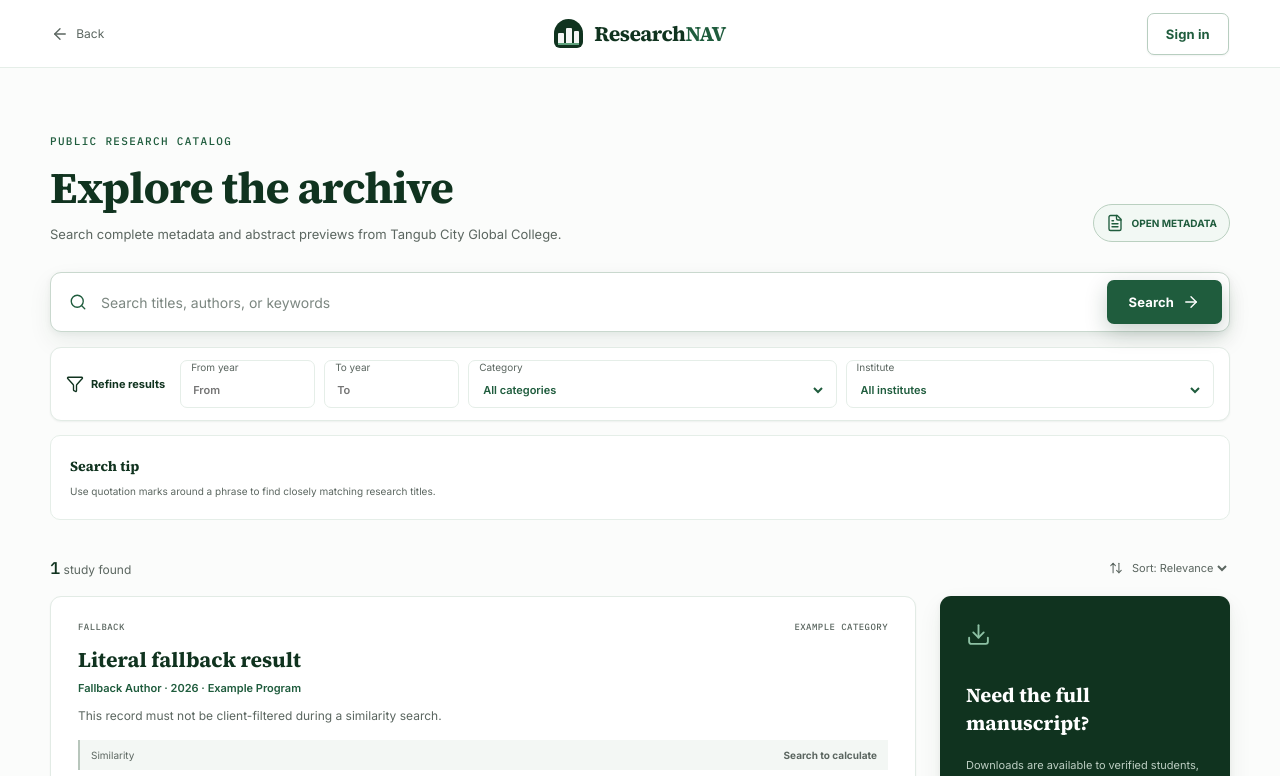
Scenario: CatalogPage public similarity search › ignores an older request when a newer submitted query wins the race
The image size is (1280, 776).
Type "older" into the field named "Search the repository".
click(597, 302); type("older")  # box x1=99 y1=281 x2=1095 y2=323
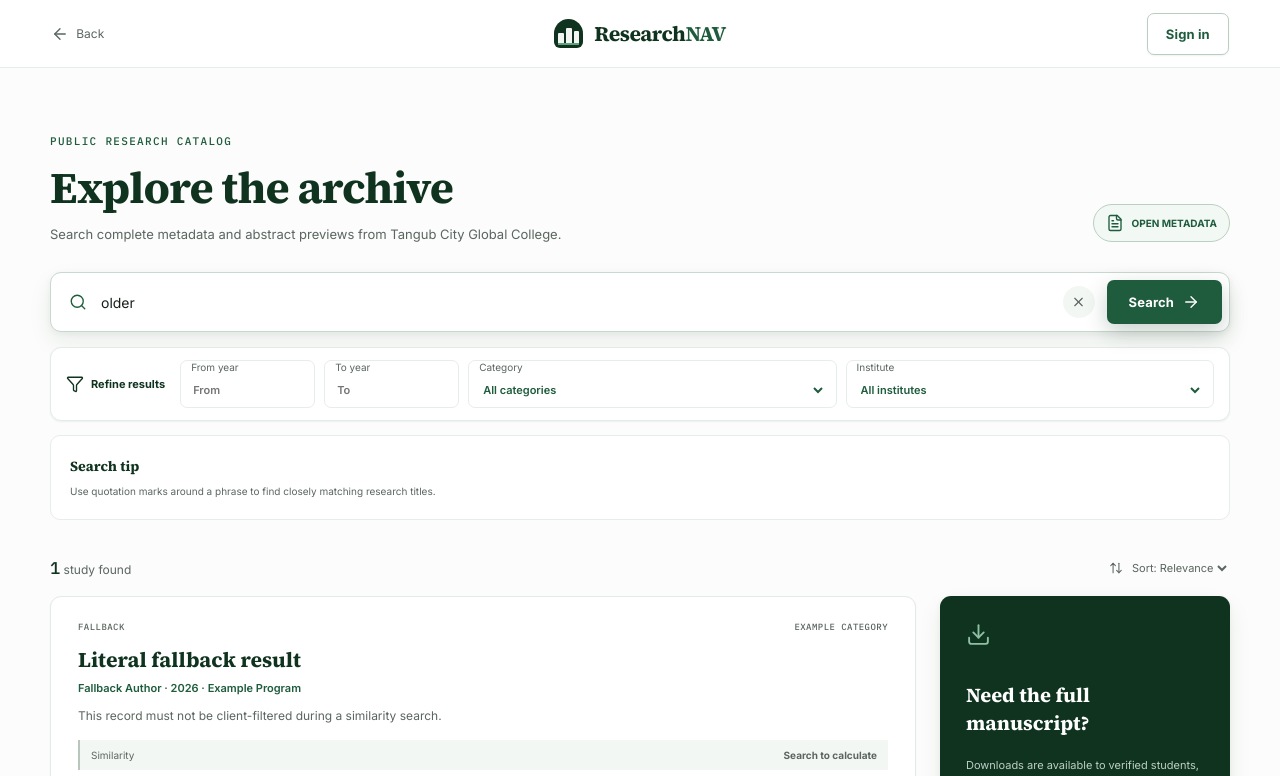
Submit the form, box x1=50 y1=272 x2=1230 y2=332
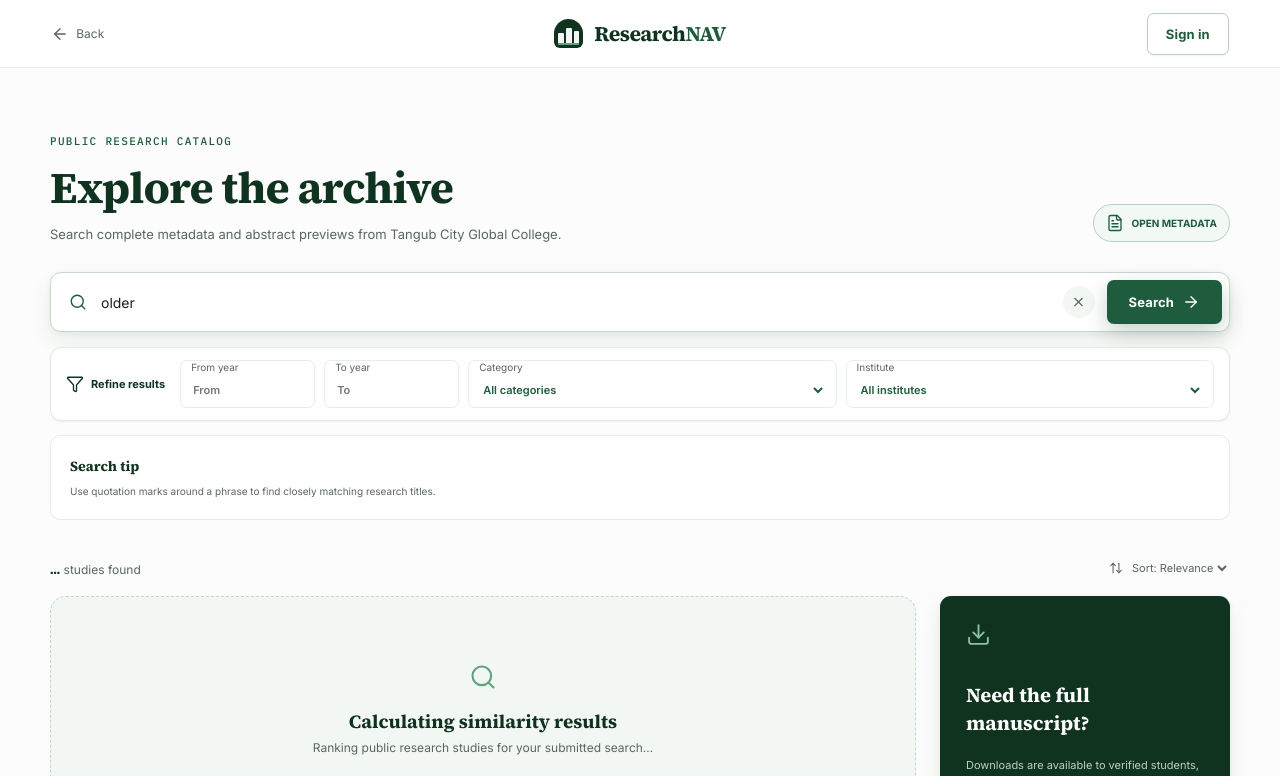
Replace the text in the field named "Search the repository" with "newer" at [575, 302], box x1=99 y1=281 x2=1051 y2=323
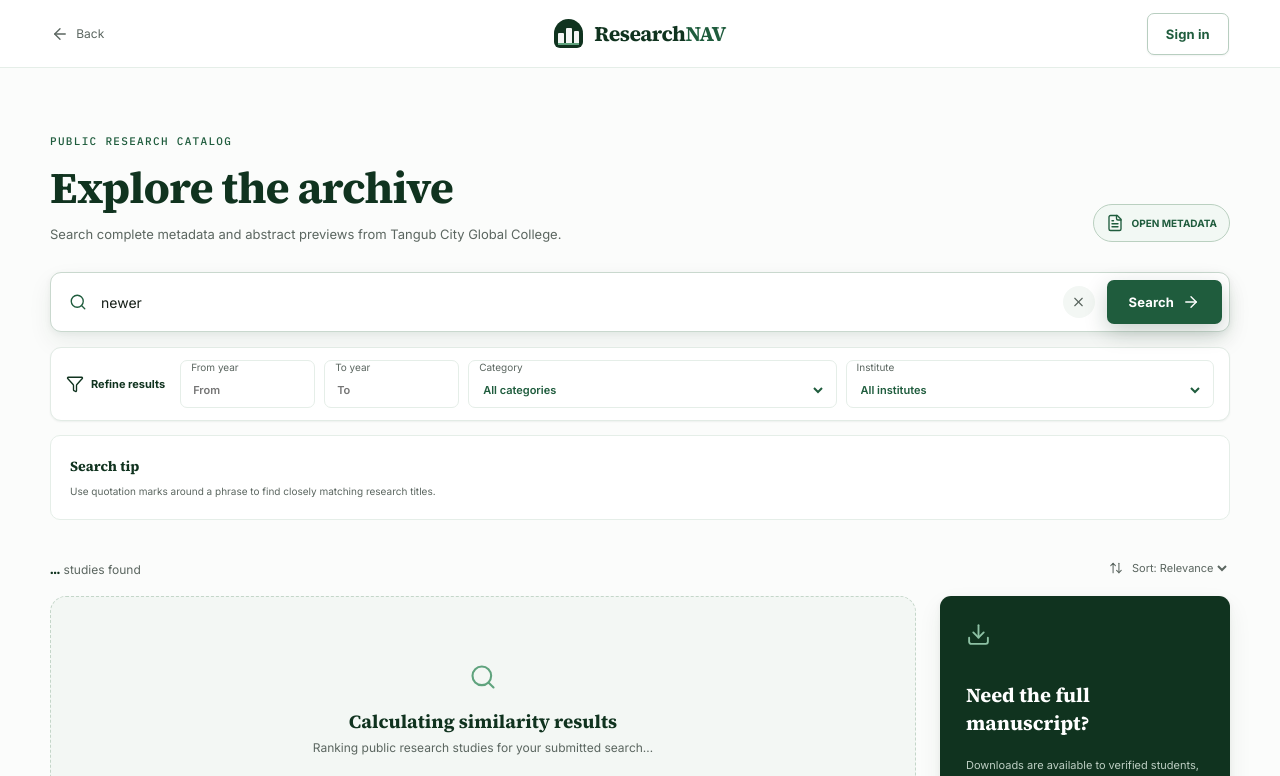
Submit the form, box x1=50 y1=272 x2=1230 y2=332
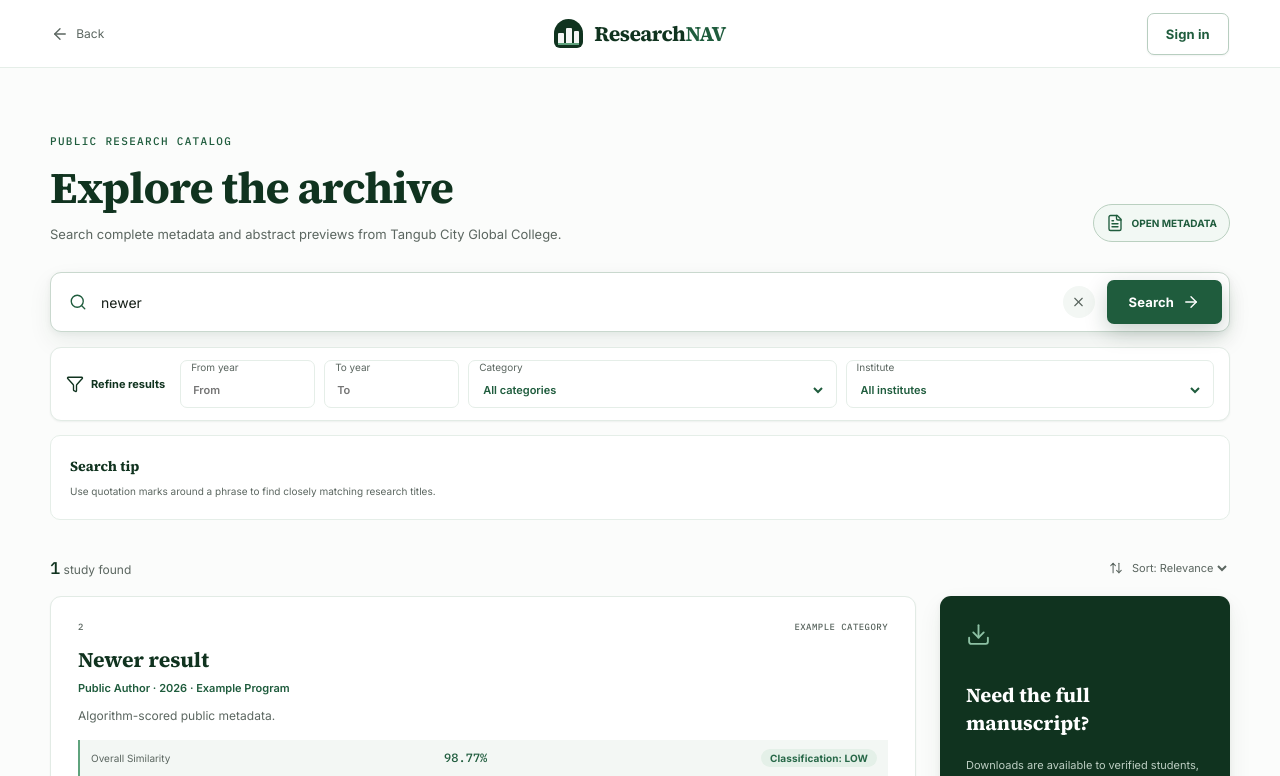
Now the heading "Newer result" is shown, box x1=78 y1=645 x2=209 y2=674
